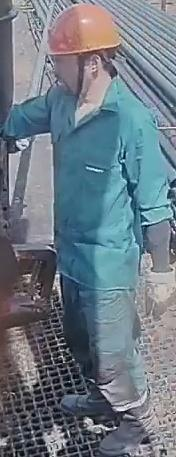gloves: (145, 260, 176, 323)
helmet: (44, 2, 121, 62)
vest: (50, 95, 159, 288)
